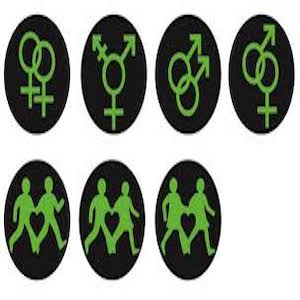green: (157, 170, 225, 269), (13, 166, 74, 257), (84, 170, 137, 261)
